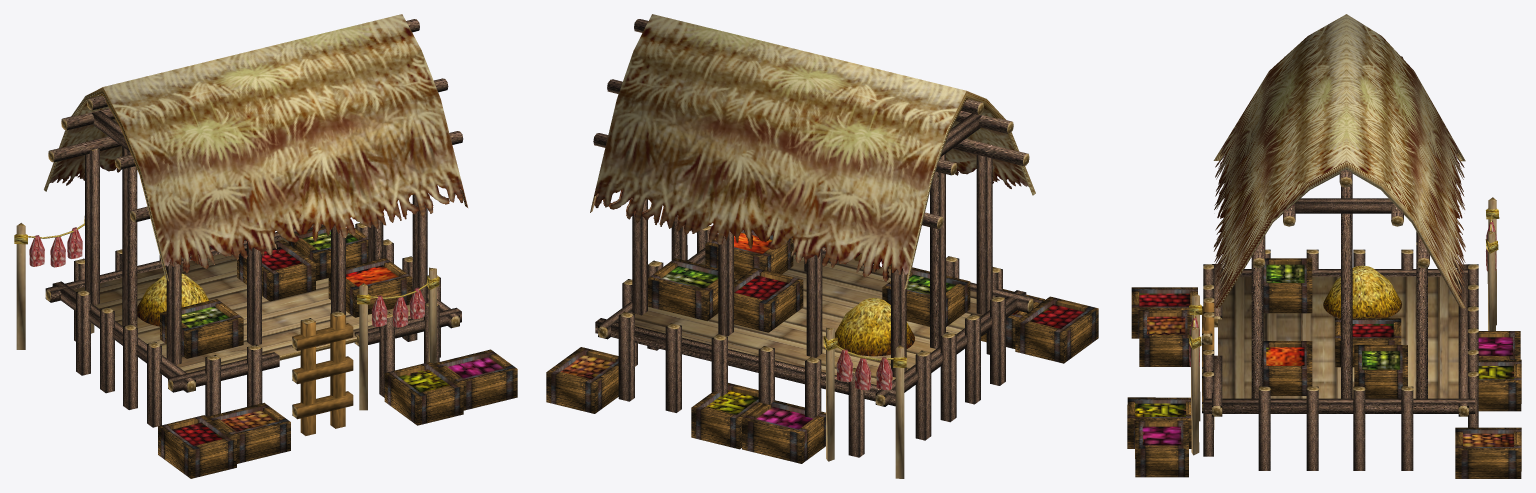
Rendered from farnstead.dae.
3 views of the same model, side by side, from view 1: azimuth 30°, elevation 25°; view 2: azimuth 150°, elevation 25°; view 3: azimuth 270°, elevation 25° (orthographic). The views are drawn at different scales.
Parts seen in each view (by area): view 1: farnstead; view 2: farnstead; view 3: farnstead.
Boxes of the visible parts, <box> form: farnstead: <box>14,14,517,478</box>; farnstead: <box>546,14,1098,478</box>; farnstead: <box>1127,14,1521,478</box>.
Bounding box in the file's own units: 12.45 × 12.7 × 11.79.
1 material, 1 textured.
